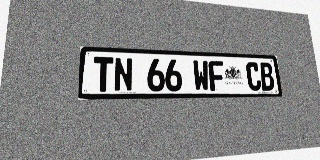6: (147, 58, 165, 91), (165, 59, 182, 91)
B: (259, 62, 275, 91)
C: (245, 62, 262, 91)
F: (208, 61, 225, 91)
N: (114, 57, 133, 92)
T: (93, 57, 113, 92)
W: (192, 60, 210, 91)
